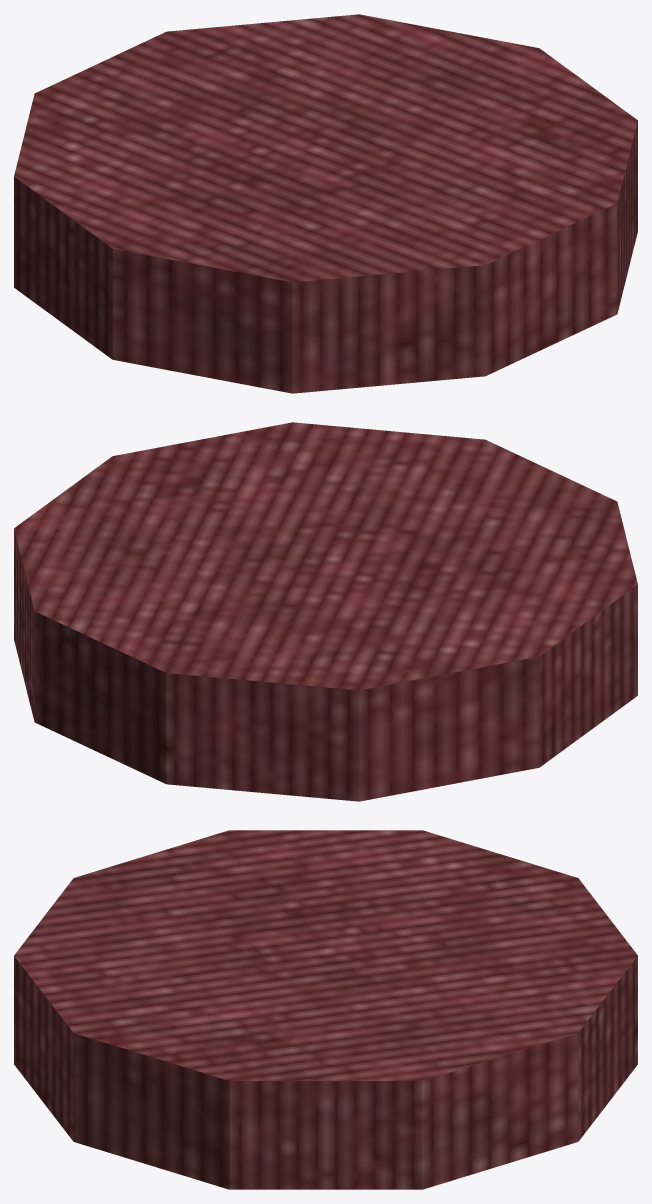
The model's file is patty.glb.
The picture shows the model from 3 angles, top to bottom: view 1: azimuth 30°, elevation 25°; view 2: azimuth 150°, elevation 25°; view 3: azimuth 270°, elevation 25°; orthographic projection. The views are drawn at different scales.
Parts seen in each view (by area): view 1: Circle; view 2: Circle; view 3: Circle.
Boxes of the visible parts, x1=… form: Circle: x1=14, y1=14, x2=637, y2=393; Circle: x1=14, y1=422, x2=637, y2=801; Circle: x1=14, y1=830, x2=637, y2=1189.
Size of the model in its own units: 1.9 by 0.3848 by 2.
1 material, 1 textured.
